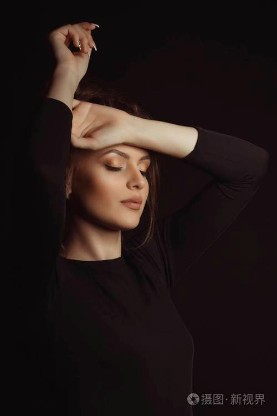闭眼: (98, 155, 126, 174), (137, 165, 150, 177)
